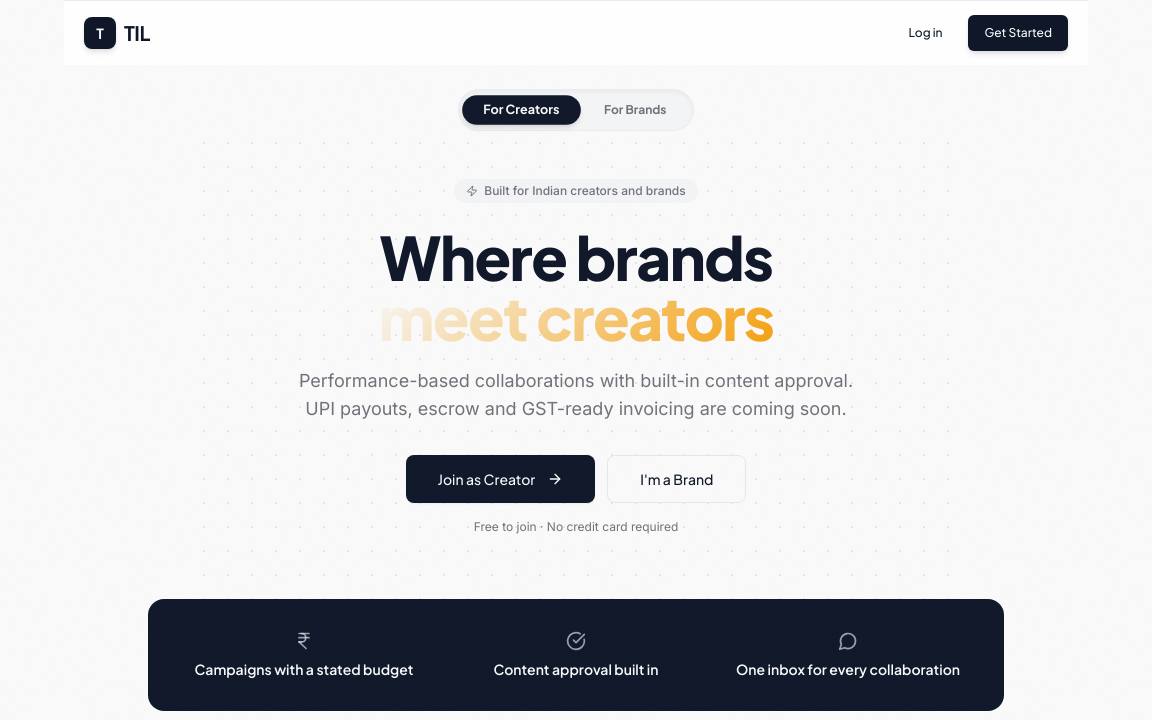
it: Landing page honesty › has no invented stats, endorsements, logos or rankings on the brand toggle
This screenshot has width=1152, height=720.
Click the button "For Brands". click: (635, 110)
box: [584,96,686,124]
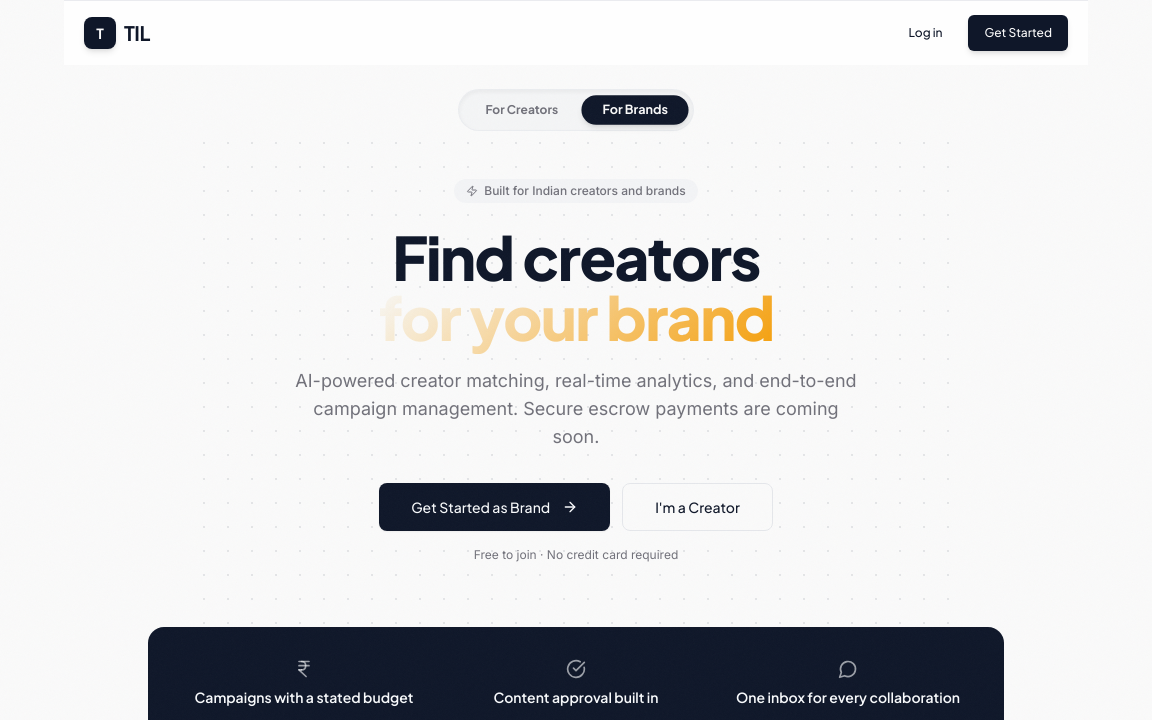
Result: the text "for your brand" is shown at [378,279,774,354]
